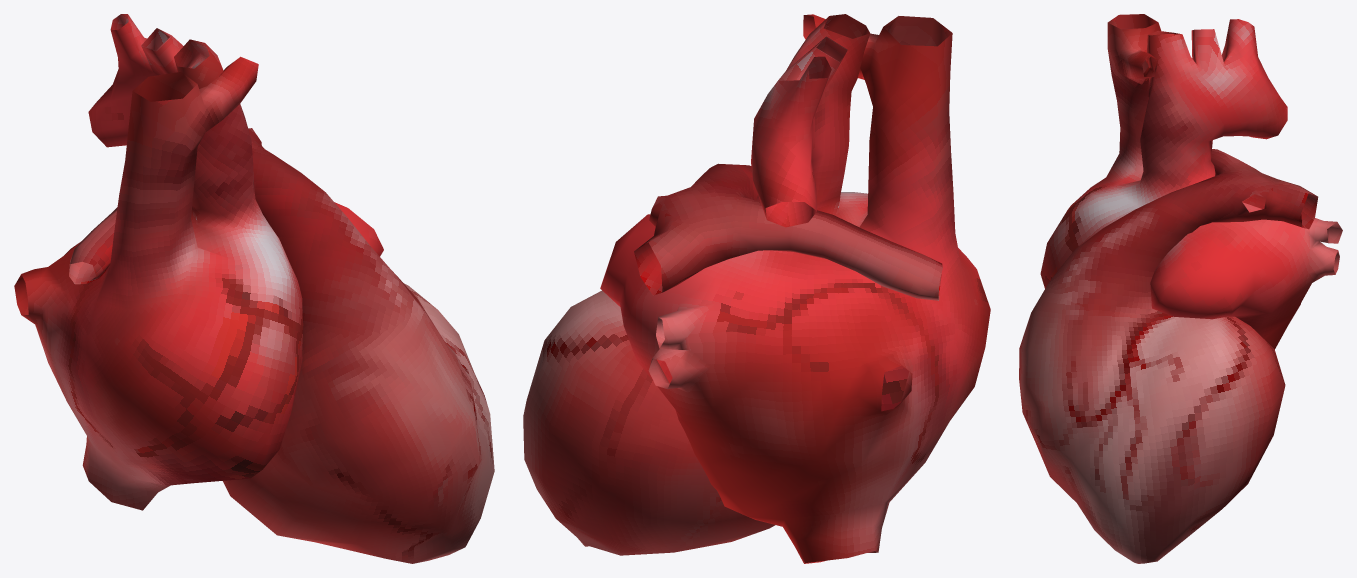
File: heart.gltf
3 renders of one model, left to right at view 1: azimuth 30°, elevation 25°; view 2: azimuth 150°, elevation 25°; view 3: azimuth 270°, elevation 25°, orthographic. The views are drawn at different scales.
Parts seen in each view (by area): view 1: Heart2; view 2: Heart2; view 3: Heart2.
Part boxes in pixels (x1,y1,x2,y2): Heart2: [14, 14, 494, 563]; Heart2: [523, 14, 990, 563]; Heart2: [1019, 14, 1342, 563].
Size of the model in its own units: 1.66 by 2.22 by 1.47.
2 materials, 2 textured.
